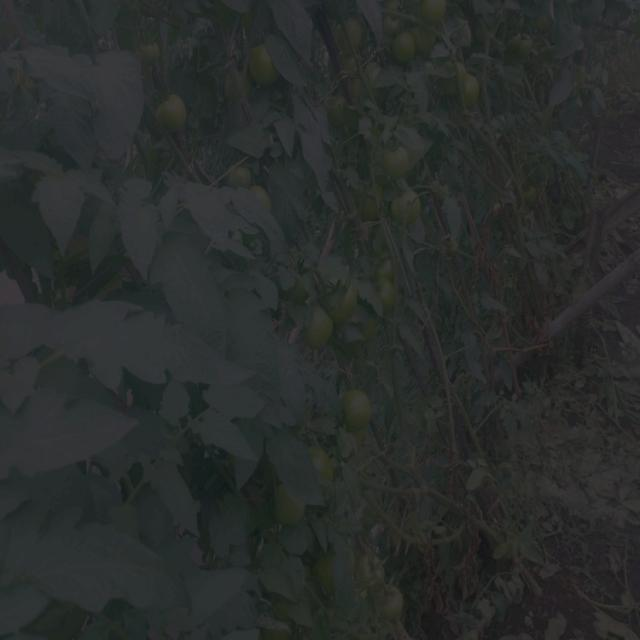tomato: (388, 1, 438, 61), (257, 590, 312, 640), (296, 442, 346, 492), (445, 57, 482, 113), (369, 254, 400, 314), (280, 250, 315, 301), (316, 549, 353, 597), (255, 43, 286, 92), (321, 94, 359, 133), (268, 493, 307, 530), (353, 183, 387, 225), (152, 89, 185, 132), (344, 390, 376, 434), (326, 276, 357, 318), (395, 189, 426, 229), (220, 63, 250, 104), (359, 552, 390, 586), (382, 587, 409, 625), (299, 311, 324, 351), (382, 146, 411, 176), (222, 164, 256, 189), (337, 24, 367, 51), (254, 190, 279, 221), (356, 66, 389, 89), (473, 18, 500, 46), (509, 34, 533, 64), (357, 322, 386, 345), (139, 38, 163, 64), (523, 181, 544, 210), (537, 11, 558, 38), (509, 7, 531, 32), (338, 56, 357, 65)
